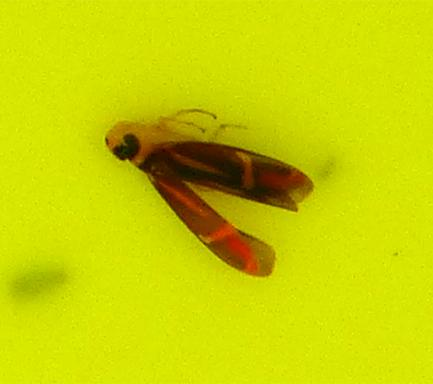Hemiptera: (100, 100, 333, 284)
